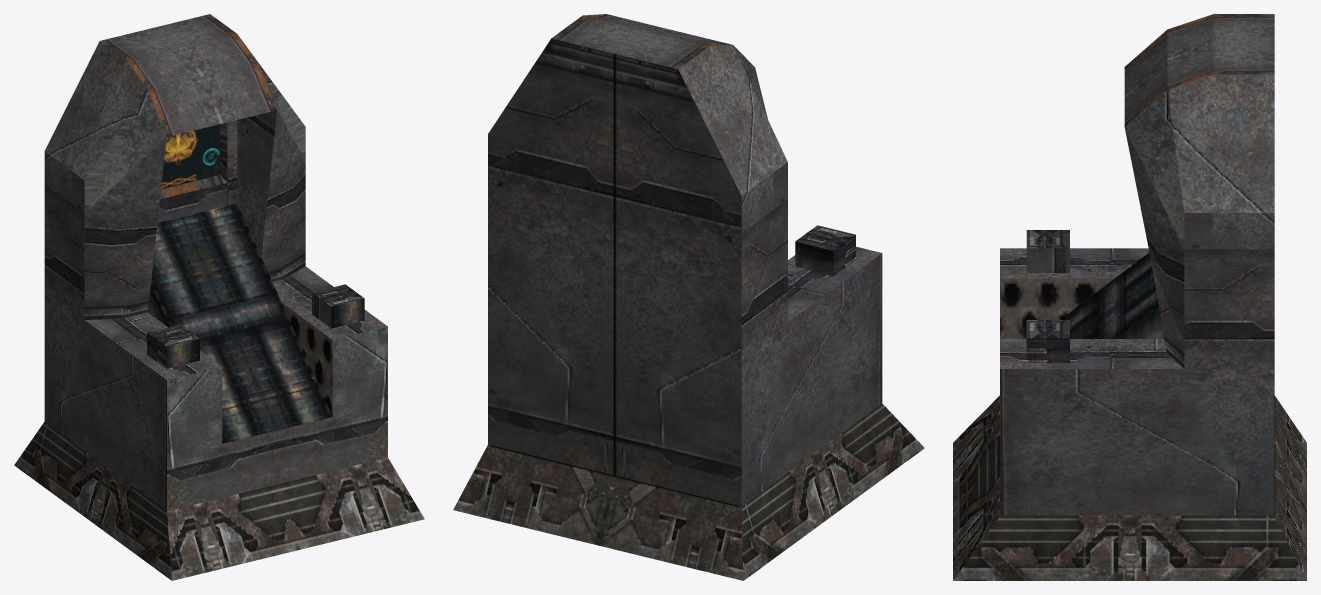
File: bobochairtest3.gltf
The picture shows the model from 3 angles, left to right: view 1: azimuth 30°, elevation 25°; view 2: azimuth 150°, elevation 25°; view 3: azimuth 270°, elevation 25°; orthographic projection. The views are drawn at different scales.
Visible parts, largest first — view 1: Cube; view 2: Cube; view 3: Cube.
Boxes of the visible parts, <box> form: Cube: <box>14,14,424,580</box>; Cube: <box>453,14,924,580</box>; Cube: <box>953,14,1306,580</box>.
Bounding box in the file's own units: 2.17 × 3.43 × 2.35.
1 material, 1 textured.
